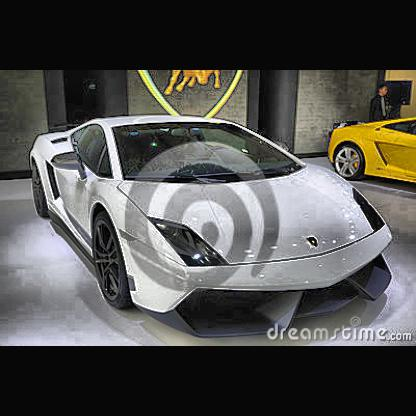Lamborghini Gallardo LP 570-4 Superleggera 2012: (34, 115, 395, 329)
